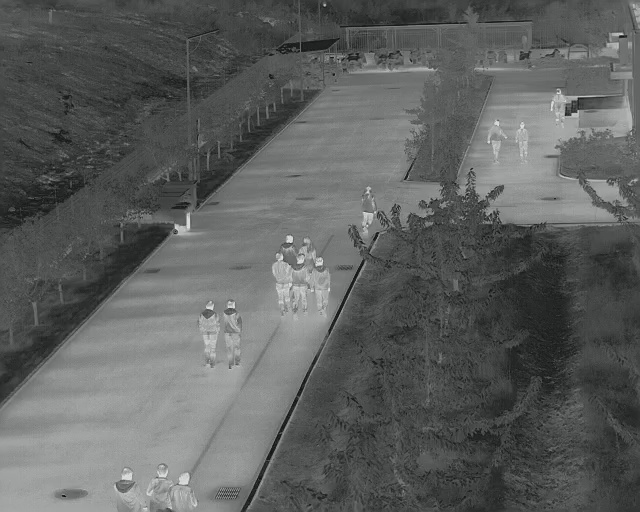person: (113, 467, 144, 512), (145, 462, 173, 511), (170, 471, 200, 512), (225, 300, 243, 368), (310, 258, 331, 314), (201, 301, 217, 367), (272, 252, 289, 313), (291, 255, 307, 315), (487, 118, 504, 161), (362, 185, 376, 234), (279, 233, 297, 256), (299, 235, 317, 258), (553, 88, 564, 125), (517, 121, 526, 157)
